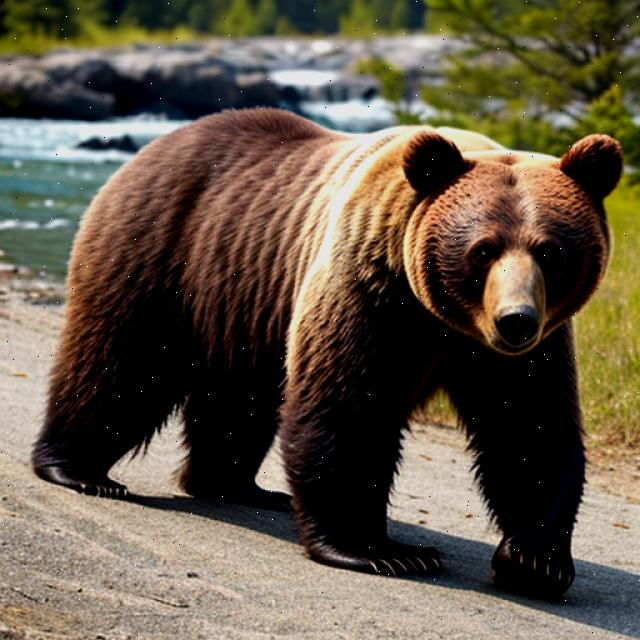bear: (45, 112, 640, 544)
